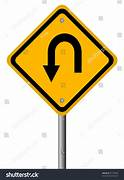back: (6, 3, 118, 115)
